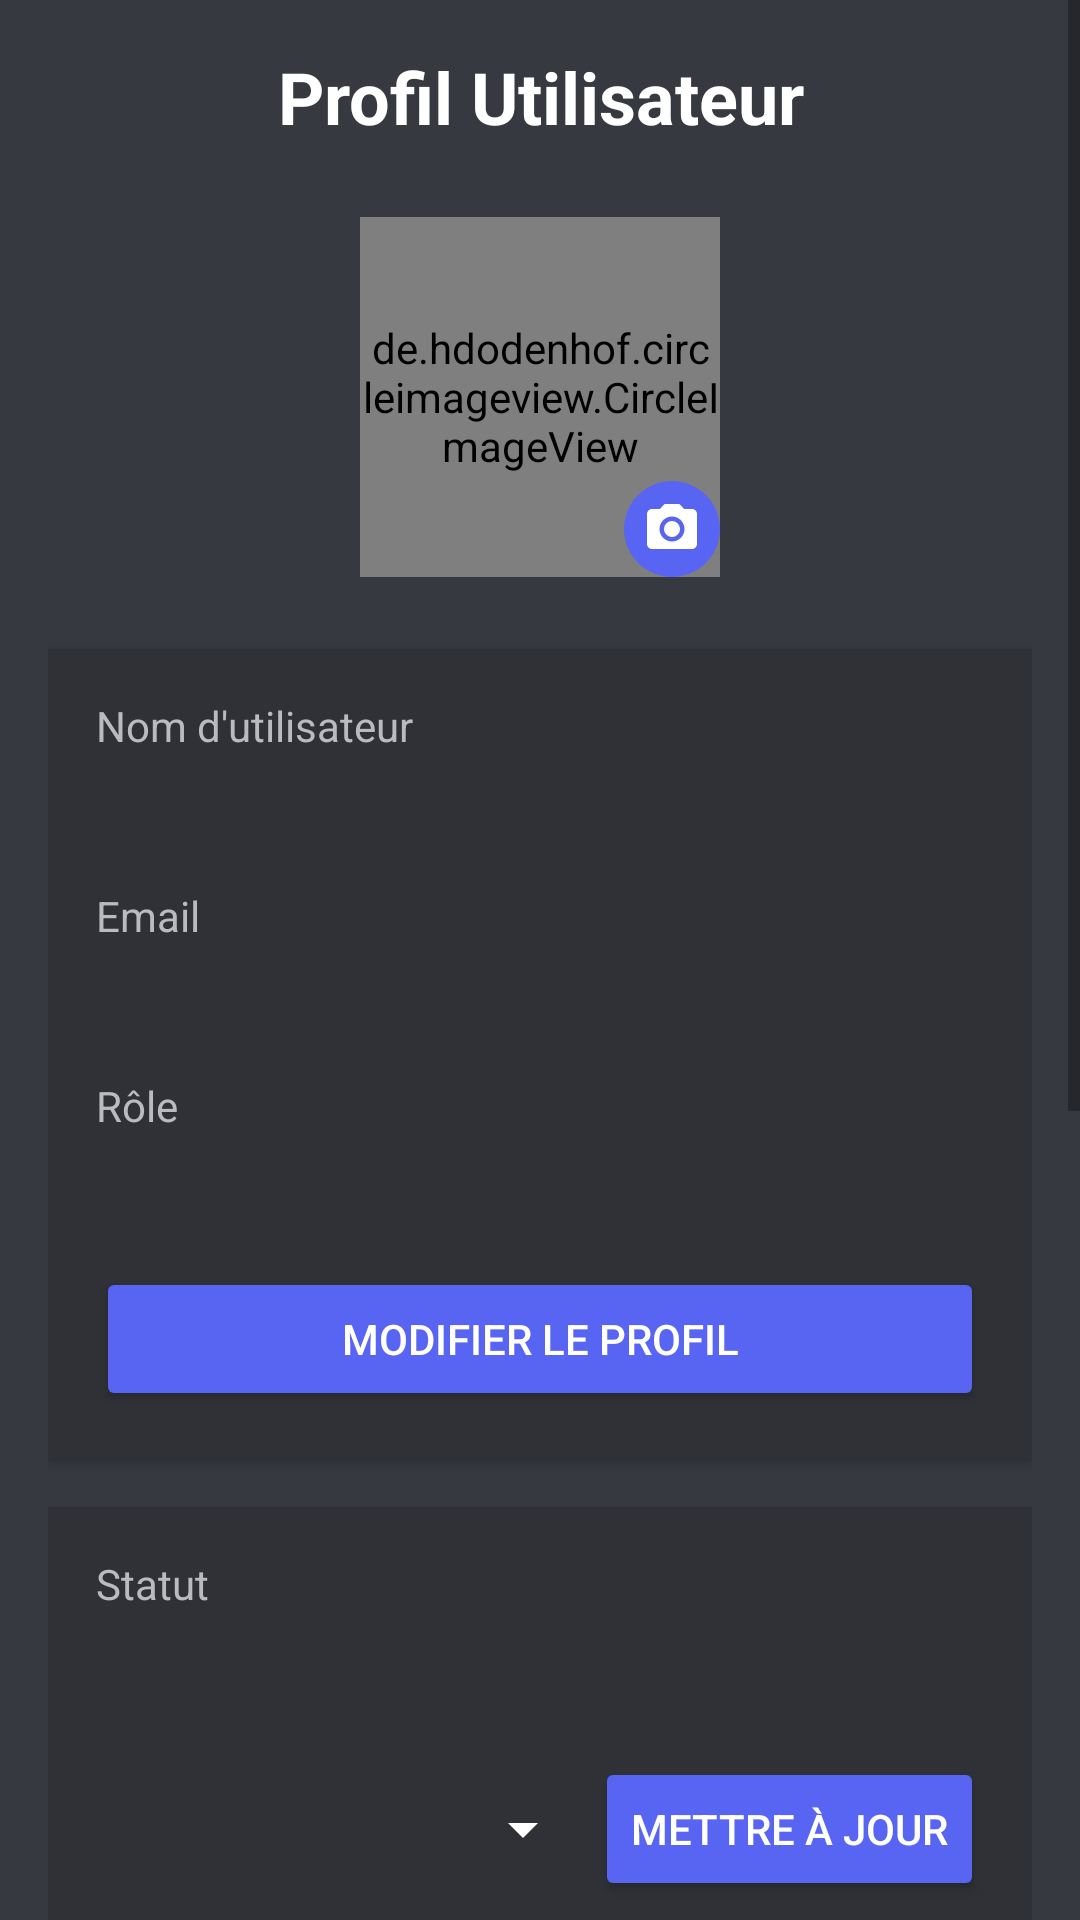

Point at icon controls on the screen. Image size 1080*1920, points as (x=x, y=y).
Changer la photo de profil: (x=672, y=529)
